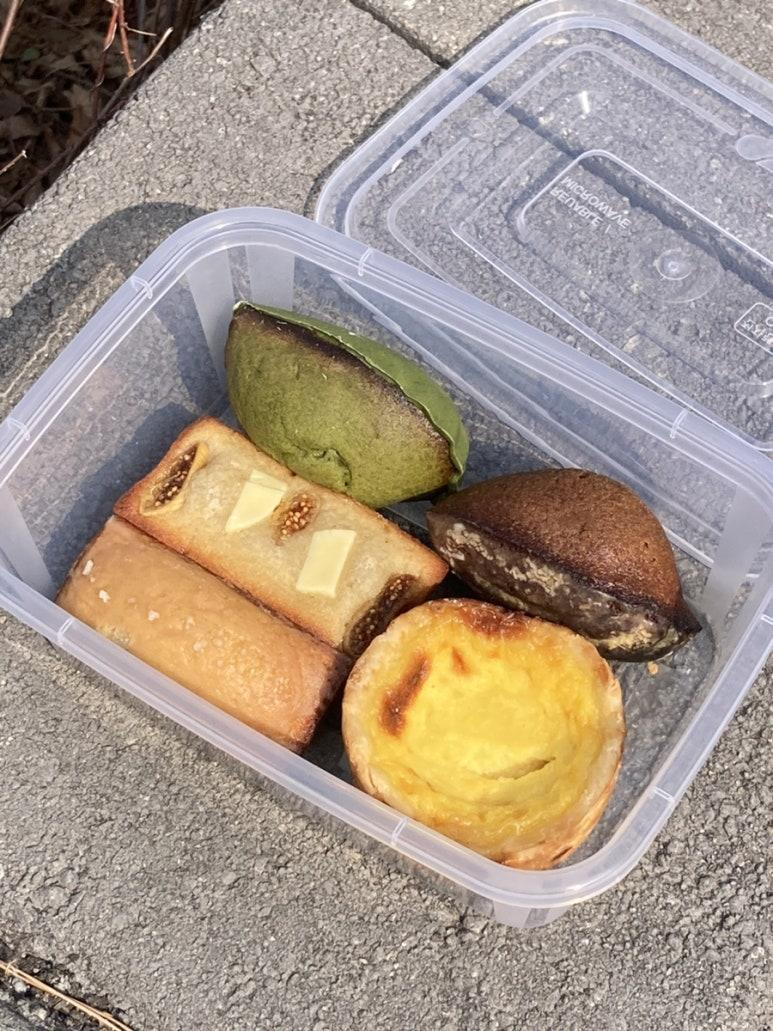Lunch Box: (0, 0, 772, 925)
